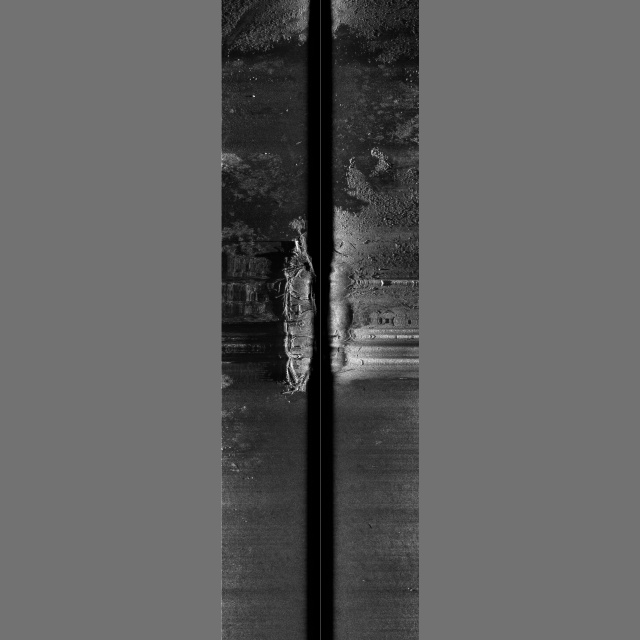Shipwreck: (273, 141, 409, 403)
